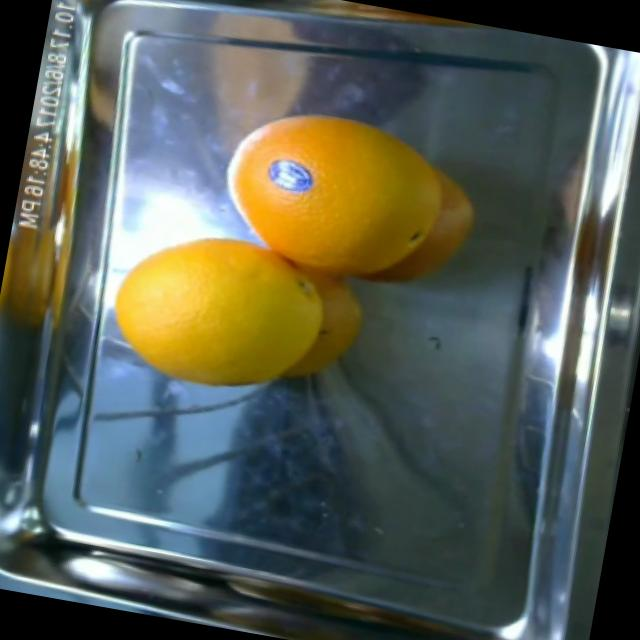Fruit: (278, 104, 498, 312), (92, 204, 312, 408)
